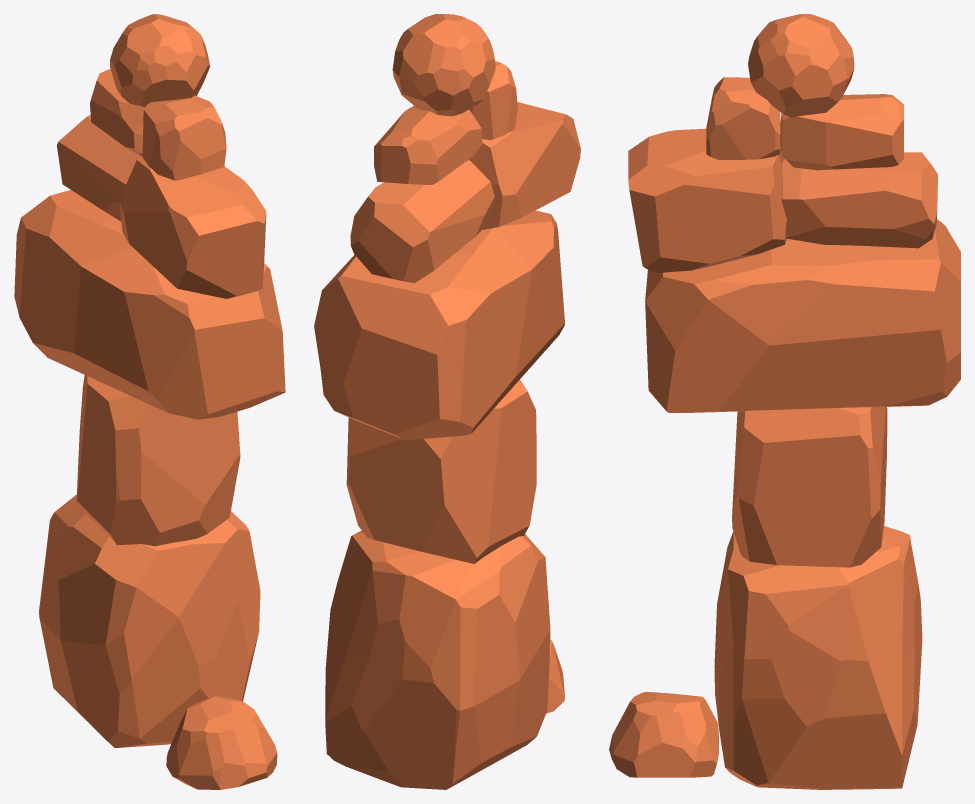
3 renders of one model, left to right at view 1: azimuth 30°, elevation 25°; view 2: azimuth 150°, elevation 25°; view 3: azimuth 270°, elevation 25°, orthographic. The views are drawn at different scales.
Visible parts, largest first — view 1: Rocks_1; view 2: Rocks_1; view 3: Rocks_1.
Boxes of the visible parts, left/top/right/bottom form: Rocks_1: left=14, top=14, right=285, bottom=789; Rocks_1: left=314, top=14, right=580, bottom=789; Rocks_1: left=609, top=14, right=960, bottom=789.
Size of the model in its own units: 955 by 3816 by 1619.
